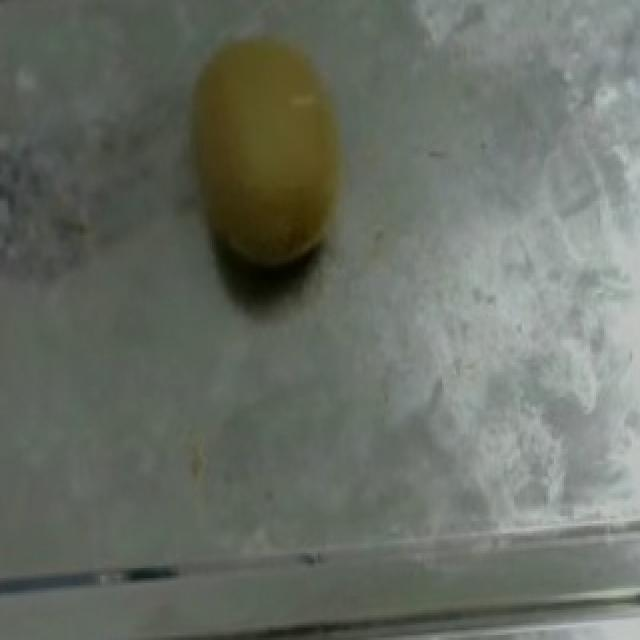Fruit: (148, 12, 384, 308)
